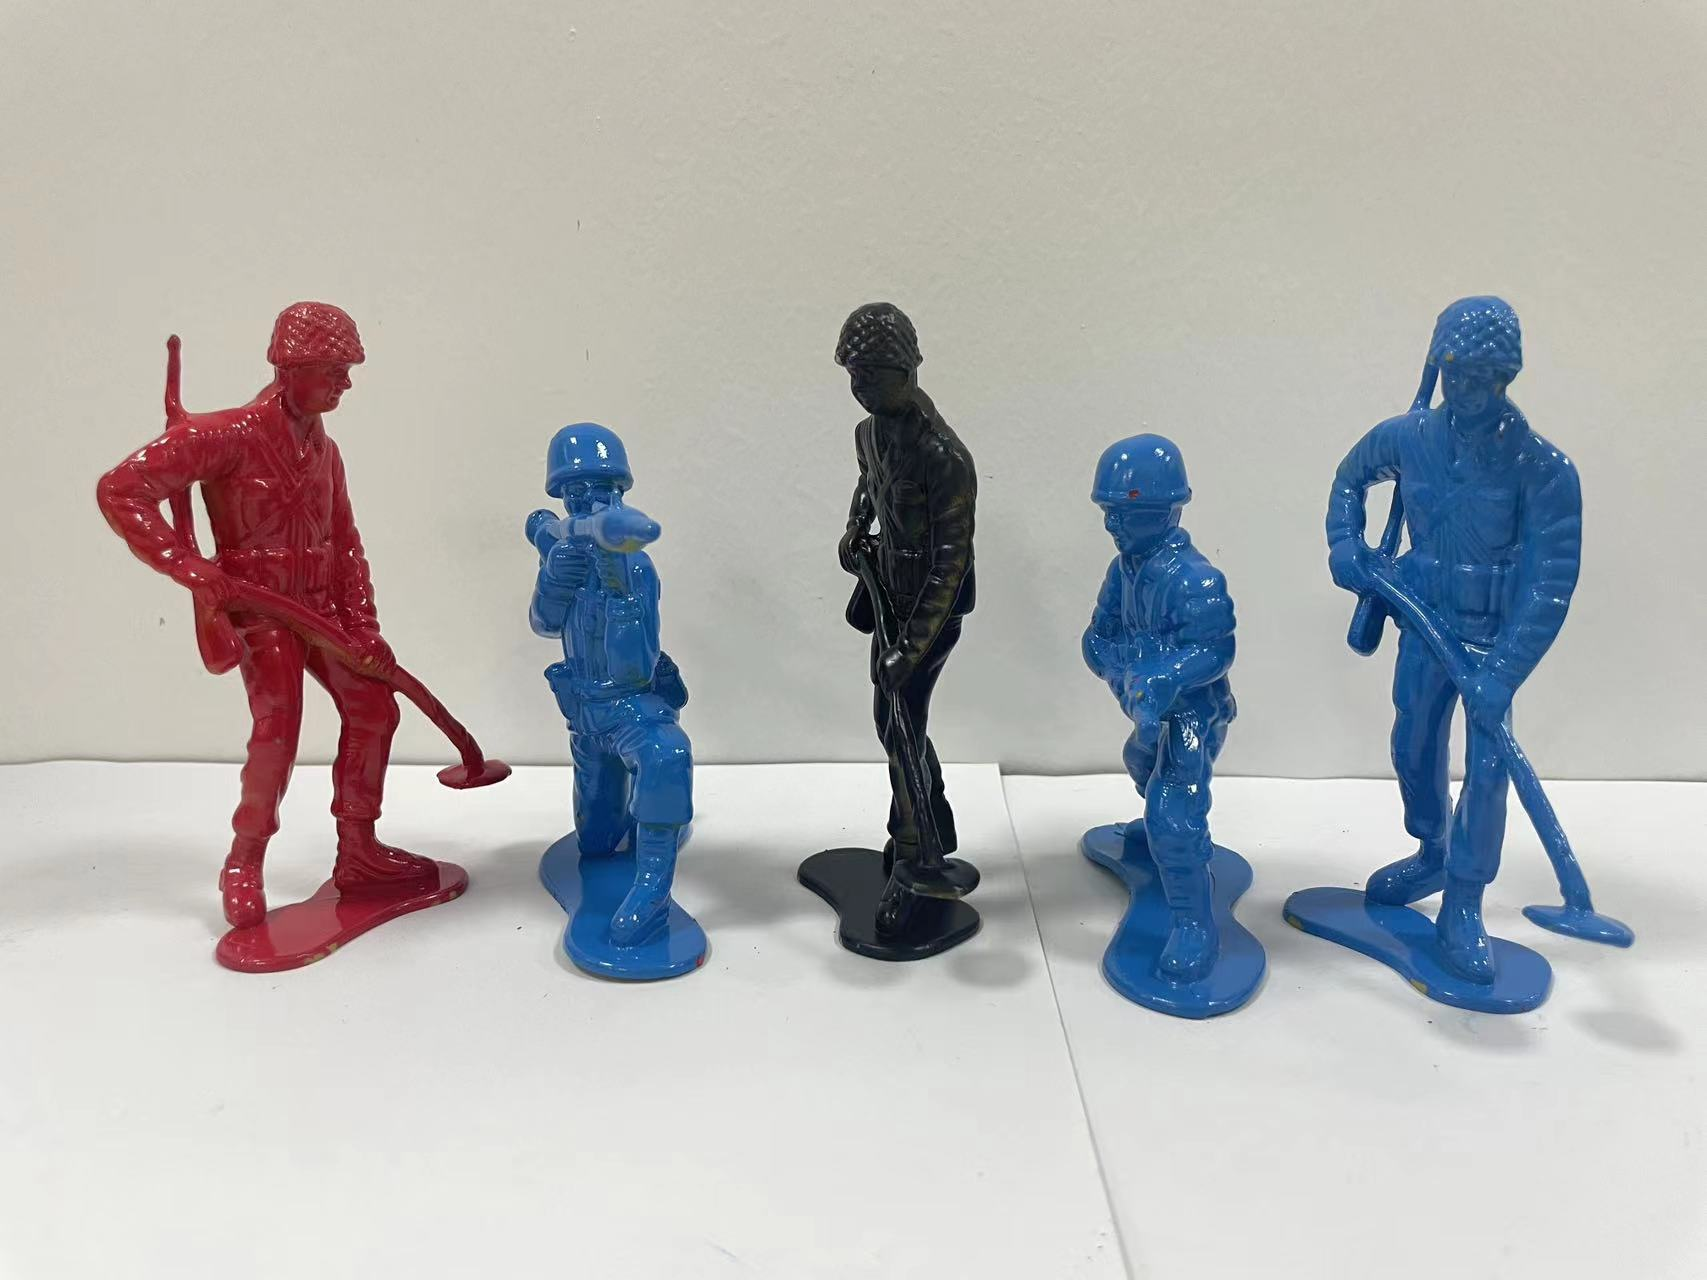black: (793, 286, 1047, 996)
blue: (1284, 247, 1698, 1066), (1059, 418, 1298, 1038), (509, 401, 746, 1000)
red: (87, 280, 499, 1026)
